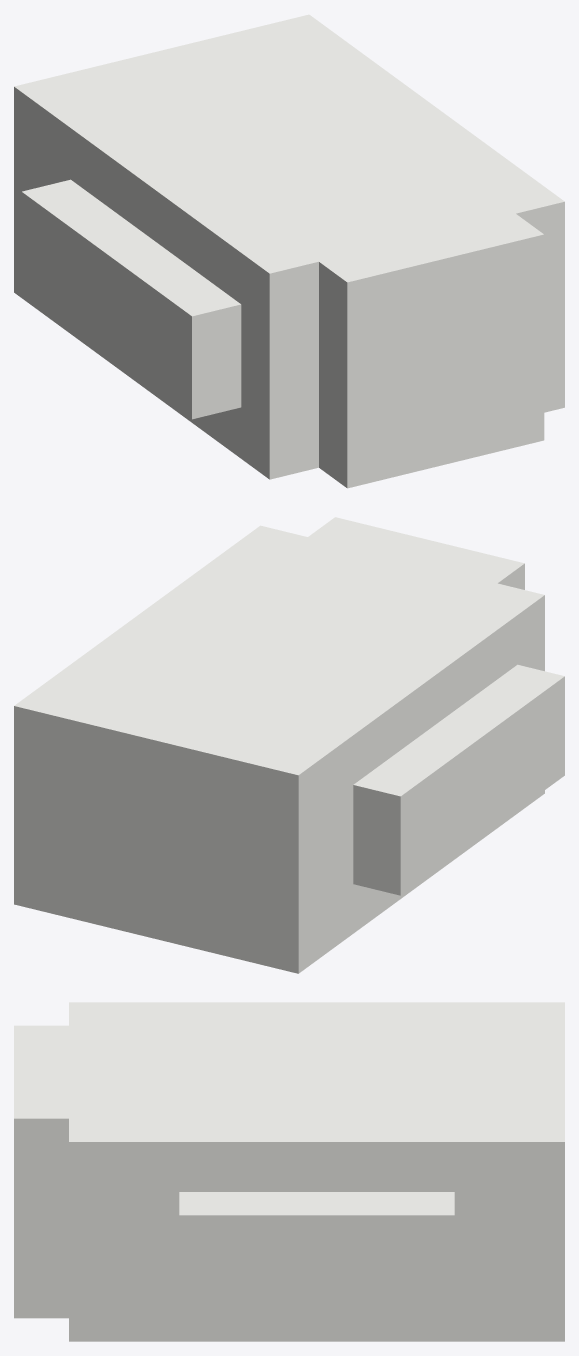
Rendered from entity14226.gltf.
The picture shows the model from 3 angles, top to bottom: view 1: azimuth 30°, elevation 25°; view 2: azimuth 150°, elevation 25°; view 3: azimuth 270°, elevation 25°; orthographic projection. The views are drawn at different scales.
Visible parts, largest first — view 1: node_Body; view 2: node_Body; view 3: node_Body.
Boxes of the visible parts, box(x1,y1,x2,y2) form: node_Body: box(14, 14, 564, 488); node_Body: box(14, 517, 564, 973); node_Body: box(14, 1002, 564, 1341).
Bounding box in the file's own units: 0.008 × 0.004 × 0.01.
1 material, 1 textured.
